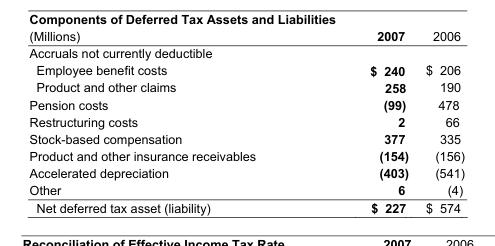table: (28, 28, 463, 214)
table column: (28, 28, 312, 214), (312, 28, 416, 214), (416, 28, 463, 214)
table column header: (28, 28, 463, 44)
table projected row header: (28, 44, 463, 61)
table row: (28, 112, 463, 130), (28, 44, 463, 61), (28, 61, 463, 78), (28, 78, 463, 95), (28, 95, 463, 112), (28, 130, 463, 147), (28, 147, 463, 164), (28, 164, 463, 181), (28, 181, 463, 198), (28, 28, 463, 44), (28, 198, 463, 214)
